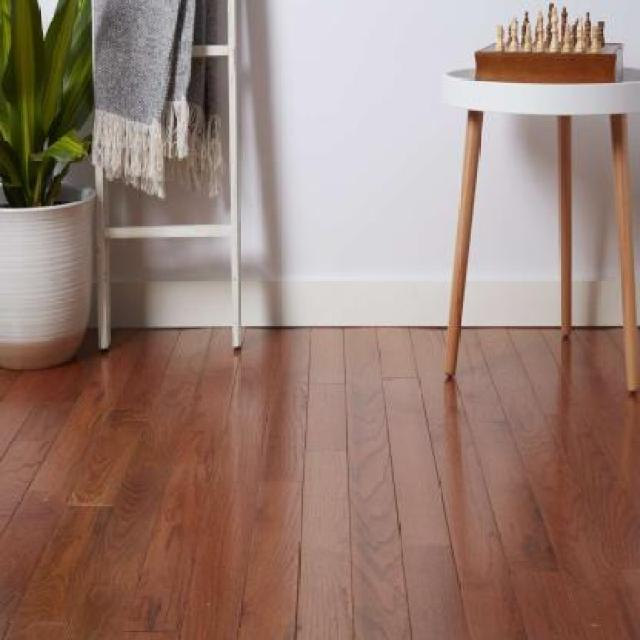floor: (0, 326, 640, 640)
